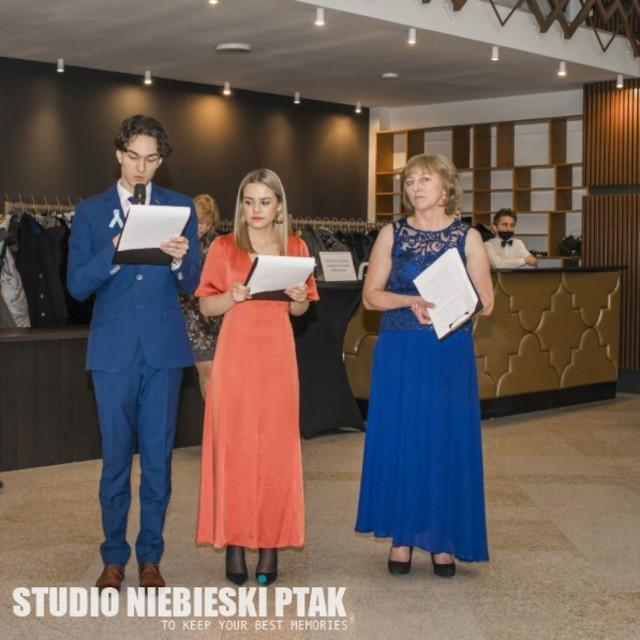kobieta: (360, 152, 495, 580), (200, 169, 317, 583), (190, 192, 218, 242)
mezczyzna: (68, 114, 199, 588), (480, 206, 539, 268)
